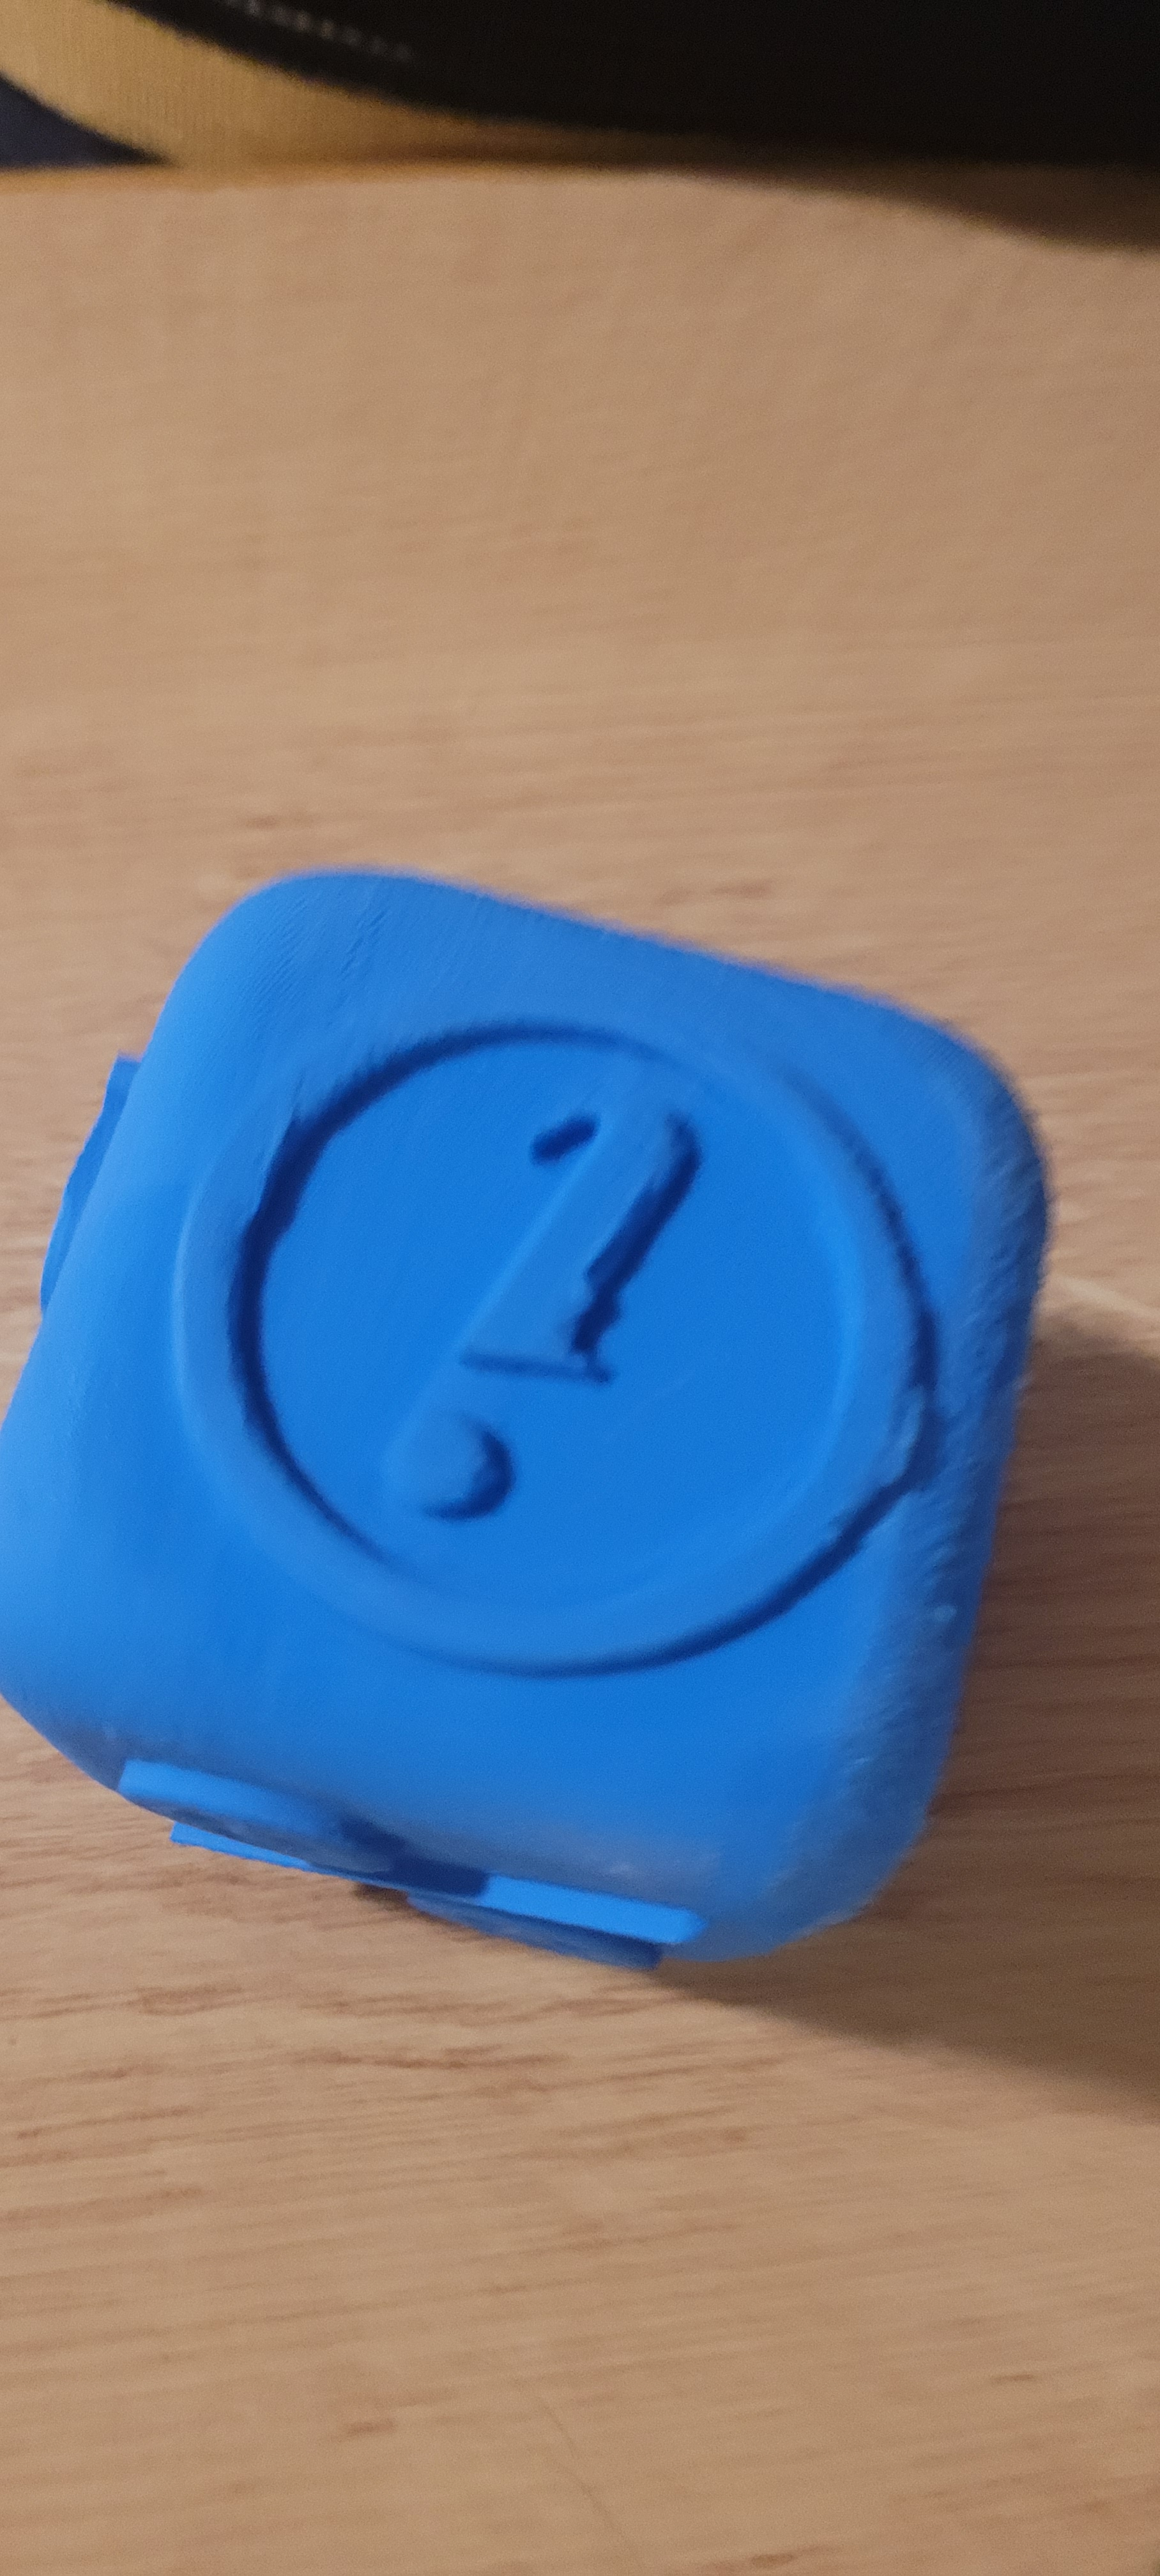Info: (242, 920, 833, 1692)
